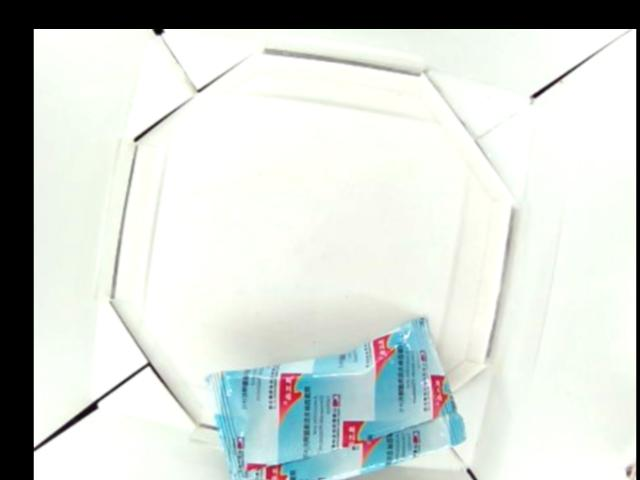Medicine: (205, 309, 463, 480)
